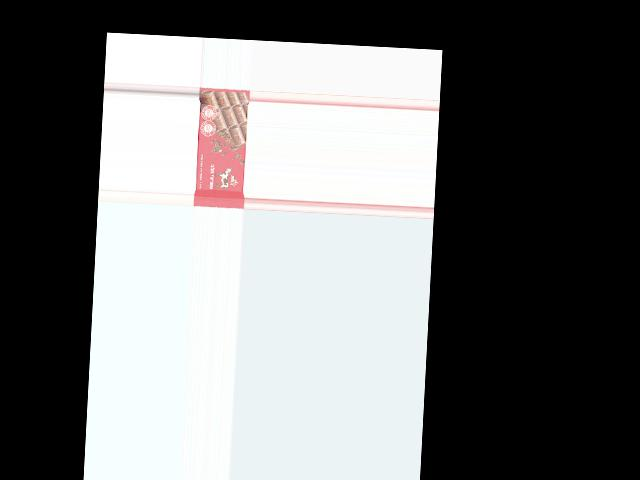chocolate: (192, 87, 249, 207)
